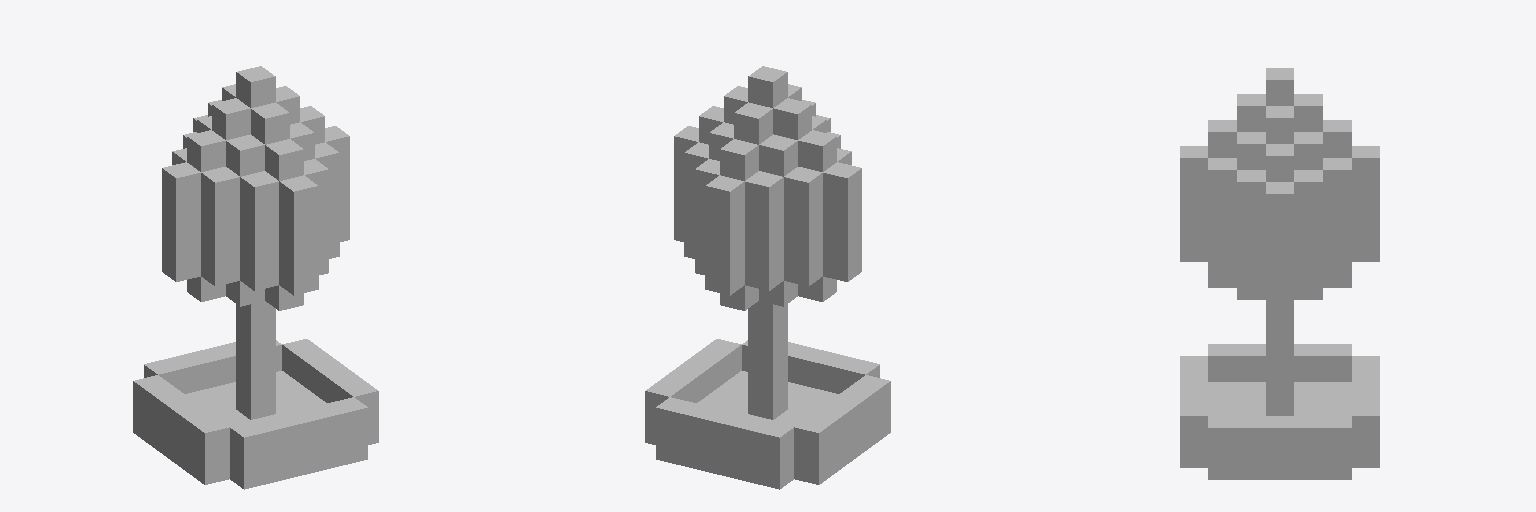
File: Tree.obj
The picture shows the model from 3 angles: view 1: azimuth 30°, elevation 25°; view 2: azimuth 150°, elevation 25°; view 3: azimuth 270°, elevation 25°; orthographic projection.
Bounding box in the file's own units: 7 × 14 × 7.